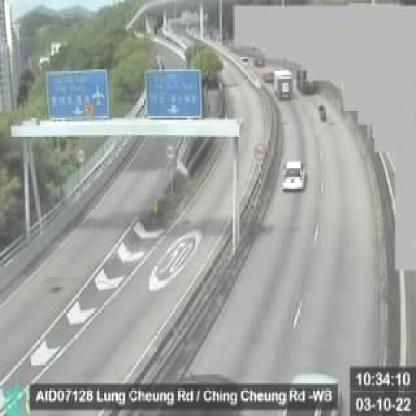Car: (282, 158, 304, 190)
Truck: (273, 70, 293, 100)
